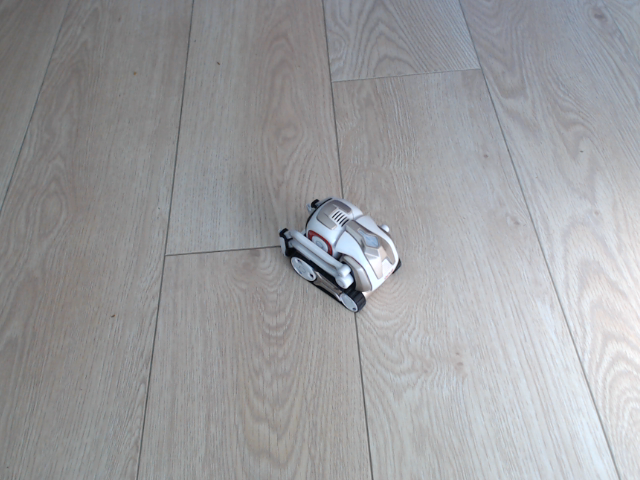cozmo: (277, 195, 404, 313)
